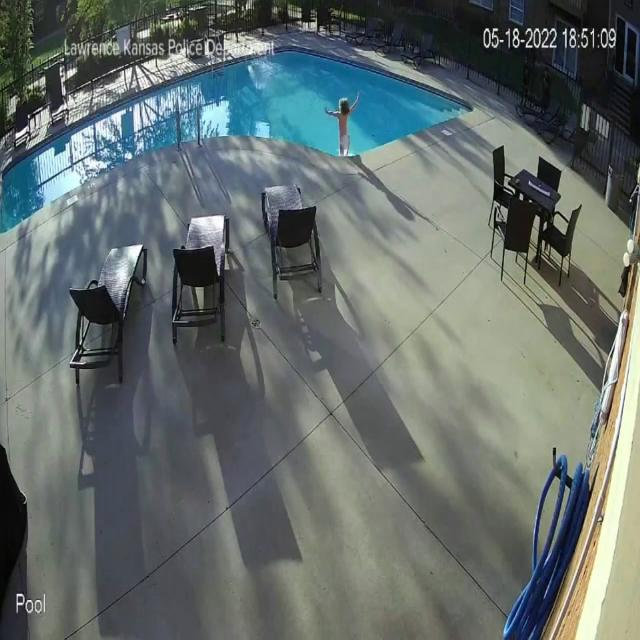child: (324, 89, 362, 160)
